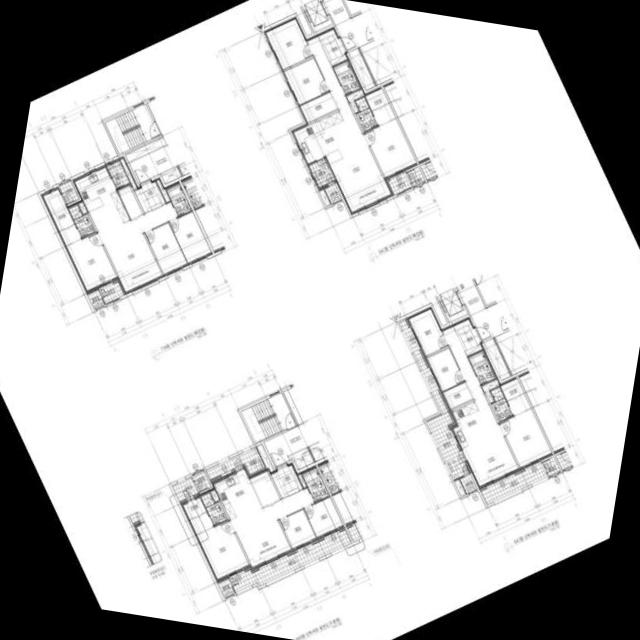background: (0, 0, 640, 640)
space_balconi: (399, 319, 470, 480), (229, 530, 352, 592), (481, 461, 548, 505), (206, 447, 266, 480), (307, 158, 336, 190), (107, 160, 130, 189), (173, 477, 199, 501), (388, 171, 412, 195), (99, 282, 124, 304)
space_bedroom: (196, 520, 250, 582), (458, 279, 510, 342), (500, 409, 553, 469), (365, 119, 418, 179), (67, 233, 117, 290), (264, 17, 313, 70), (170, 211, 212, 263), (283, 58, 329, 105), (145, 223, 187, 274), (407, 307, 448, 356), (426, 348, 465, 392), (304, 497, 344, 539), (280, 509, 317, 550)
space_dressroom: (43, 189, 82, 246), (181, 495, 214, 536), (500, 377, 531, 416), (365, 87, 396, 125)
space_elevator_hall: (324, 0, 375, 52), (264, 425, 309, 467), (129, 145, 177, 183)
space_front: (270, 462, 304, 499), (322, 36, 349, 66), (458, 326, 484, 356), (141, 180, 166, 211)
space_kitchen: (291, 111, 360, 167), (75, 167, 131, 235), (213, 467, 262, 521), (451, 401, 492, 450)
space_living_room: (307, 35, 394, 215), (442, 325, 520, 489), (100, 202, 178, 292), (231, 488, 314, 569)
space_other: (495, 330, 528, 375), (360, 40, 392, 85), (299, 92, 338, 124), (249, 469, 280, 507), (484, 338, 511, 380), (349, 48, 376, 90), (126, 137, 167, 162), (442, 382, 473, 410), (118, 185, 143, 219), (288, 447, 314, 469), (120, 158, 137, 189), (257, 444, 274, 472), (60, 181, 79, 204), (347, 89, 365, 113), (482, 379, 500, 402), (318, 27, 339, 46), (135, 188, 151, 212), (193, 471, 212, 491), (161, 166, 182, 184), (406, 167, 425, 186), (453, 317, 474, 334), (543, 457, 560, 476), (157, 179, 170, 202), (455, 479, 466, 496), (320, 189, 331, 206), (298, 474, 307, 487), (211, 490, 220, 502), (79, 202, 87, 214)
space_outdoor_room: (325, 183, 342, 203), (218, 578, 235, 597), (460, 474, 477, 493), (88, 290, 105, 309)
space_staircase: (241, 392, 296, 443), (105, 104, 160, 154)
space_toilet: (333, 60, 361, 95), (469, 351, 496, 385), (201, 492, 228, 525), (303, 468, 329, 502), (69, 205, 95, 237), (167, 184, 192, 216), (355, 97, 378, 131), (491, 387, 513, 421)
